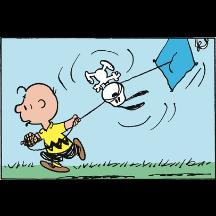charlie: (12, 81, 86, 172)
snoopy: (84, 59, 150, 111)
